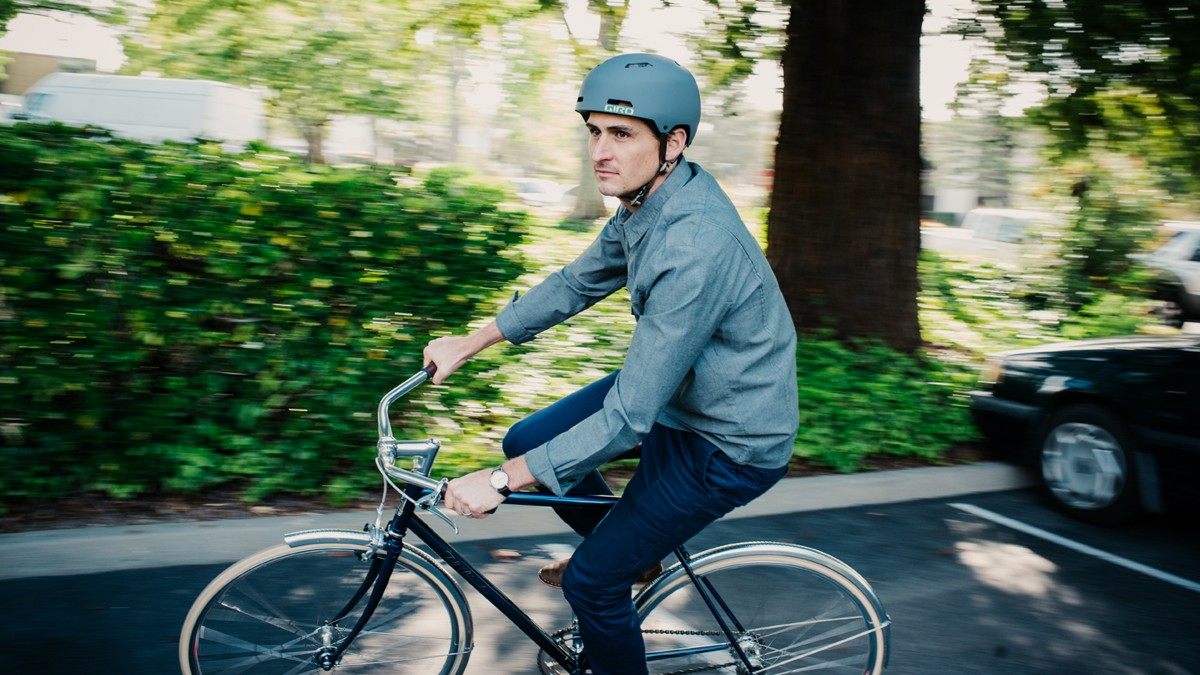with_helmet: (562, 56, 705, 142)
